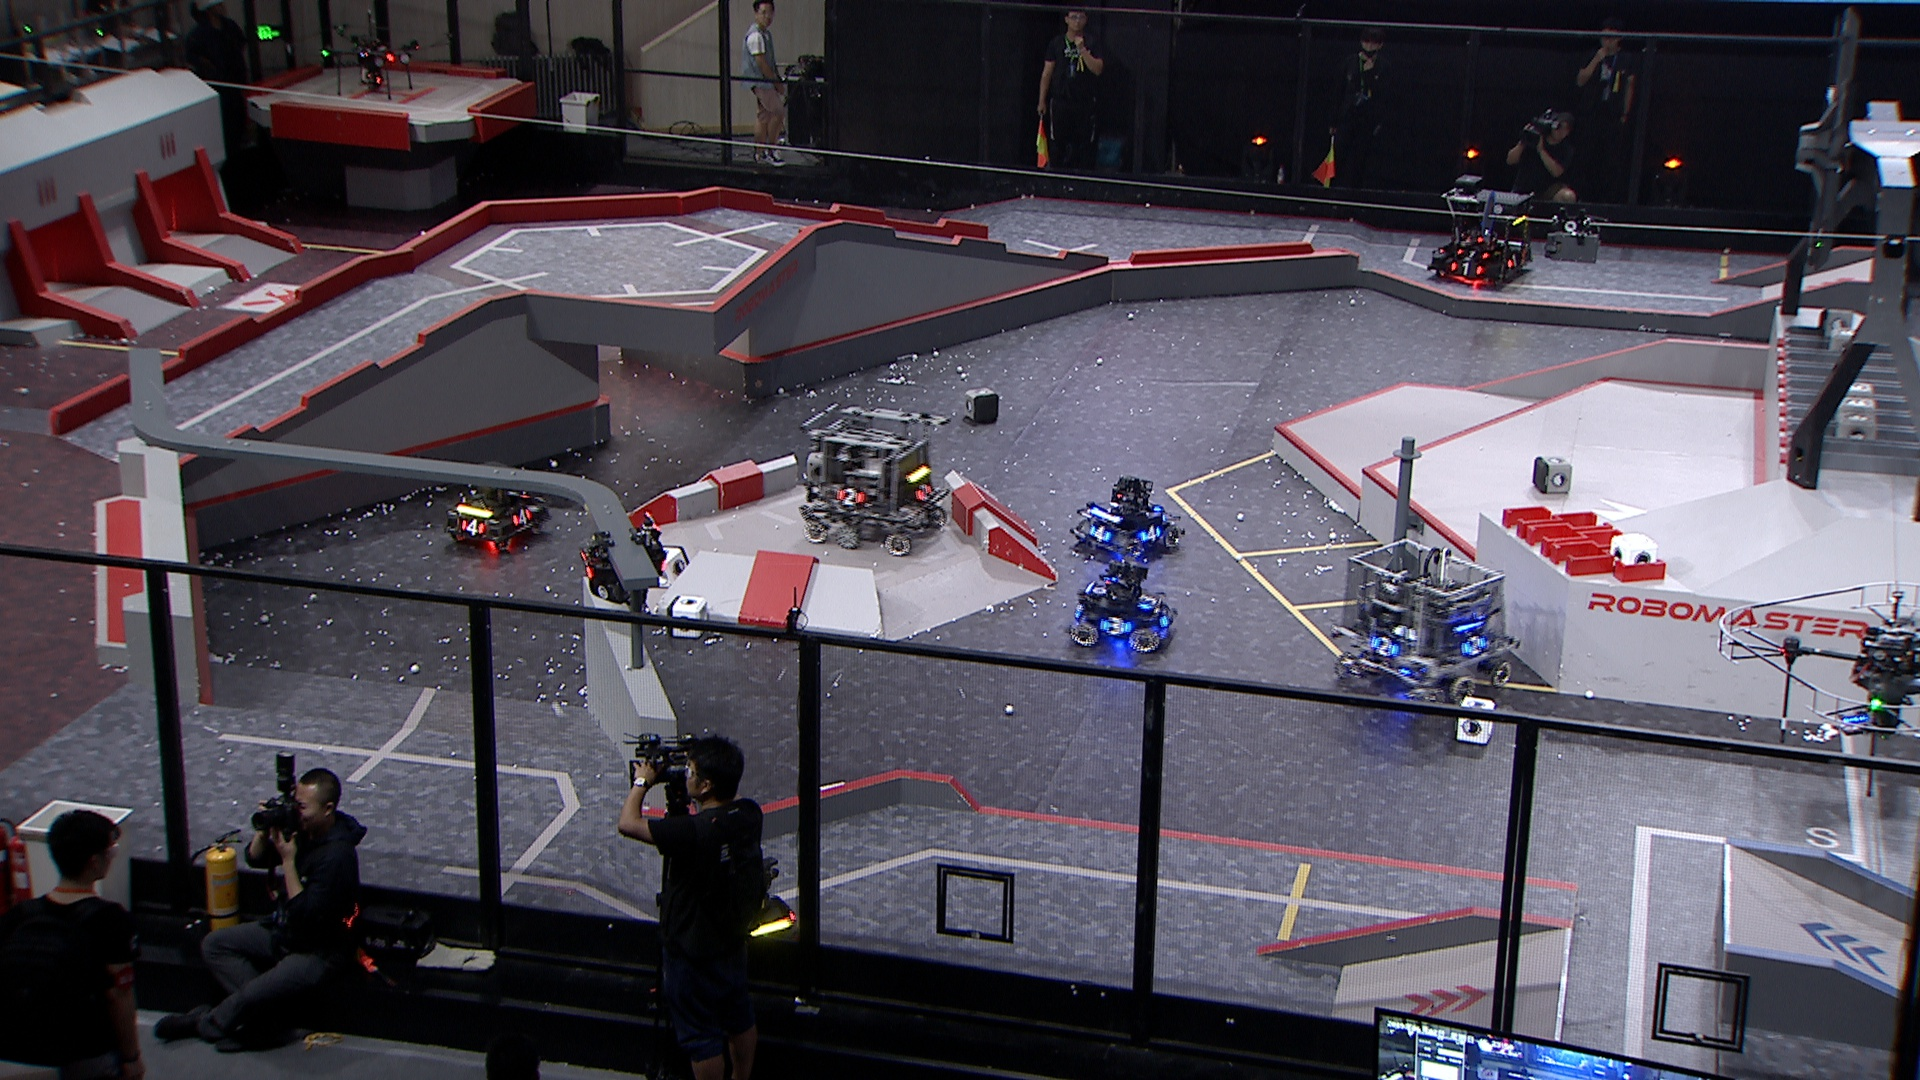armor: (1458, 632, 1489, 659), (835, 487, 869, 510), (1100, 616, 1131, 637), (1449, 258, 1485, 277), (1371, 636, 1399, 657), (1455, 245, 1490, 261), (1087, 524, 1114, 543), (458, 518, 487, 535), (1138, 524, 1164, 542), (1135, 591, 1159, 611), (512, 506, 533, 527), (913, 483, 935, 502), (579, 551, 595, 578), (1155, 604, 1174, 626), (1505, 251, 1523, 268)
car: (1333, 534, 1524, 713), (795, 400, 951, 553), (1427, 173, 1534, 290), (1063, 559, 1182, 654), (439, 458, 553, 553), (1072, 471, 1185, 560)
watcher: (578, 510, 667, 611)
